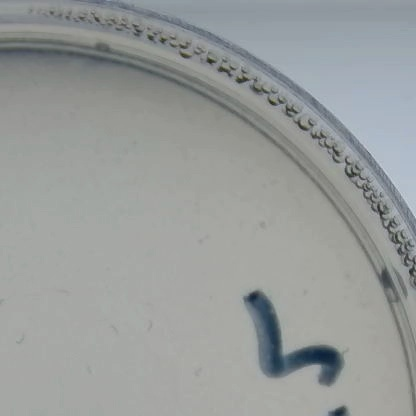worm: (9, 329, 33, 353), (141, 312, 158, 341), (107, 319, 127, 343), (192, 231, 213, 247), (53, 288, 75, 299), (193, 365, 208, 381), (340, 340, 355, 353)
